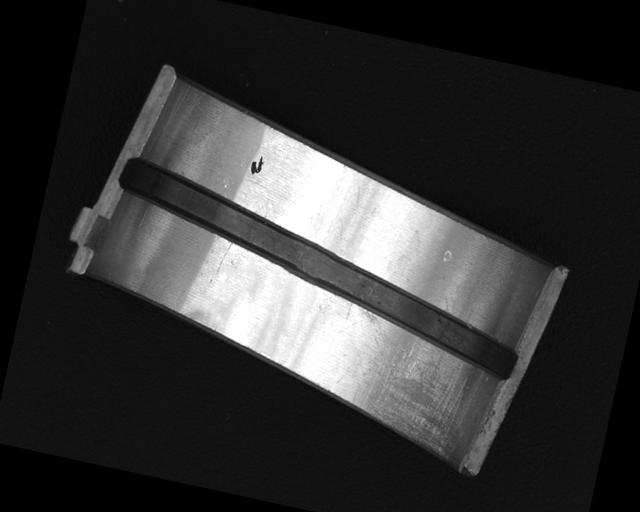blot: (246, 152, 267, 176)
bruise: (440, 248, 453, 264)
gap: (95, 154, 540, 379)
nick: (207, 236, 231, 286)
scratch: (331, 307, 484, 462)
